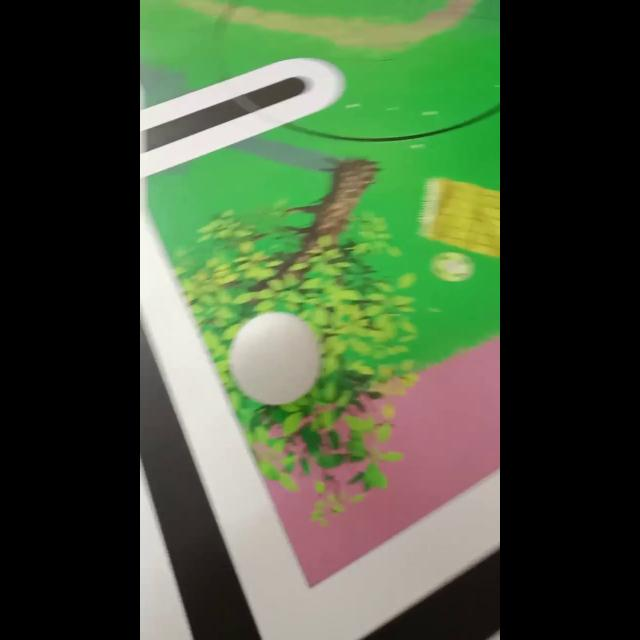white ball: (228, 310, 320, 406)
